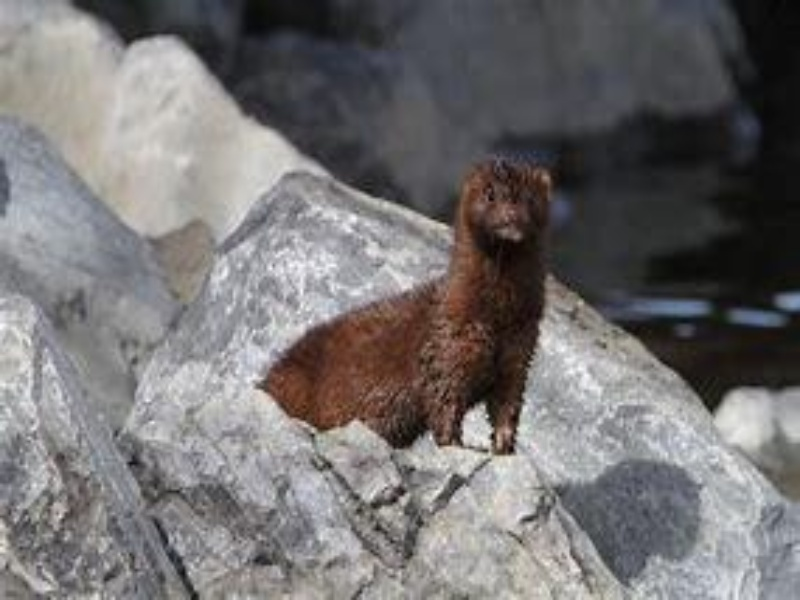minkish: (251, 161, 550, 457)
